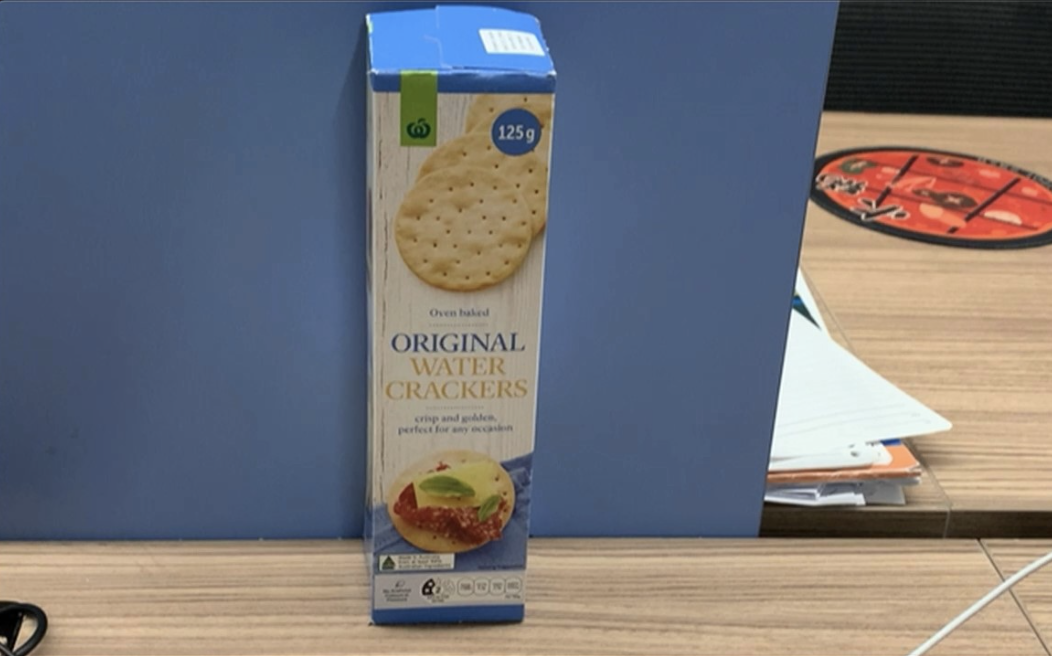crackers_150g: (376, 84, 538, 603)
